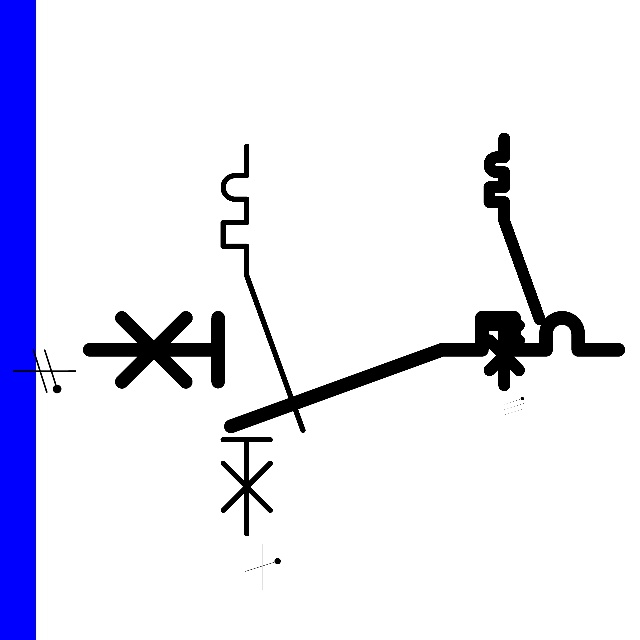interruptor_termomagnetico: (75, 304, 631, 440), (213, 136, 313, 544), (483, 132, 546, 392)
